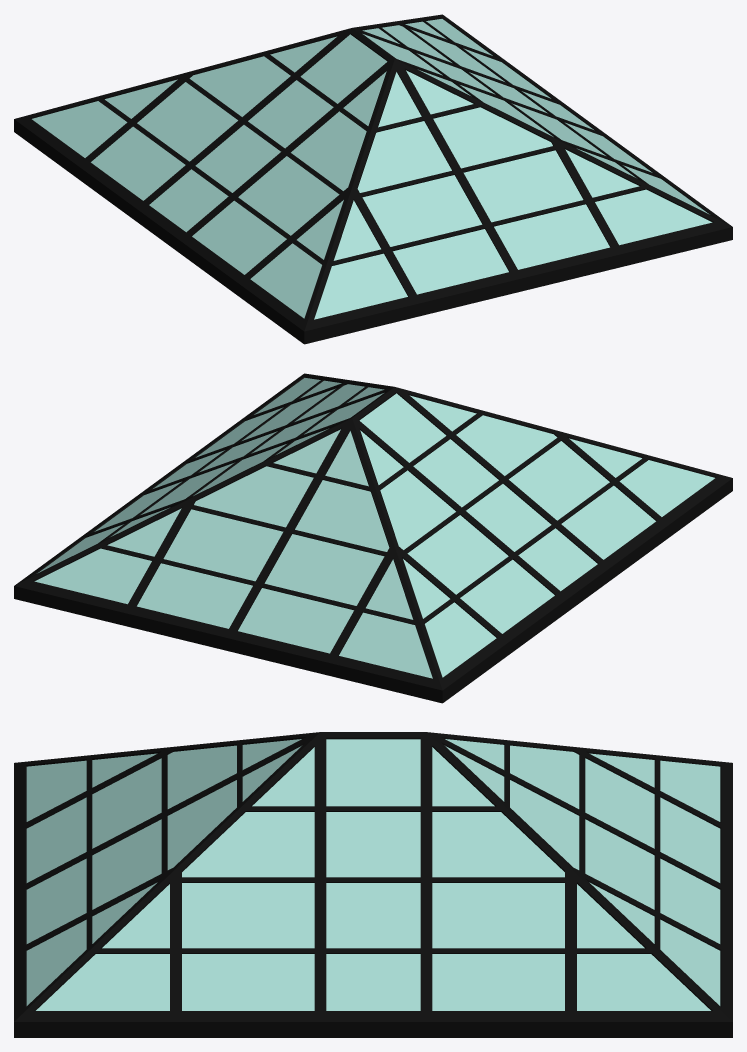
File: skylite.fbx
3 renders of one model, top to bottom at view 1: azimuth 30°, elevation 25°; view 2: azimuth 150°, elevation 25°; view 3: azimuth 270°, elevation 25°, orthographic. The views are drawn at different scales.
Parts seen in each view (by area): view 1: Group#1_00, Object001; view 2: Group#1_00, Object001; view 3: Group#1_00, Object001.
Boxes of the visible parts, x1=… form: Group#1_00: x1=32, y1=19, x2=712, y2=319; Object001: x1=14, y1=14, x2=732, y2=344; Group#1_00: x1=34, y1=378, x2=714, y2=678; Object001: x1=14, y1=373, x2=732, y2=703; Group#1_00: x1=26, y1=739, x2=720, y2=1010; Object001: x1=14, y1=732, x2=732, y2=1037.
Size of the model in its own units: 0.3708 by 0.1177 by 0.4349.
